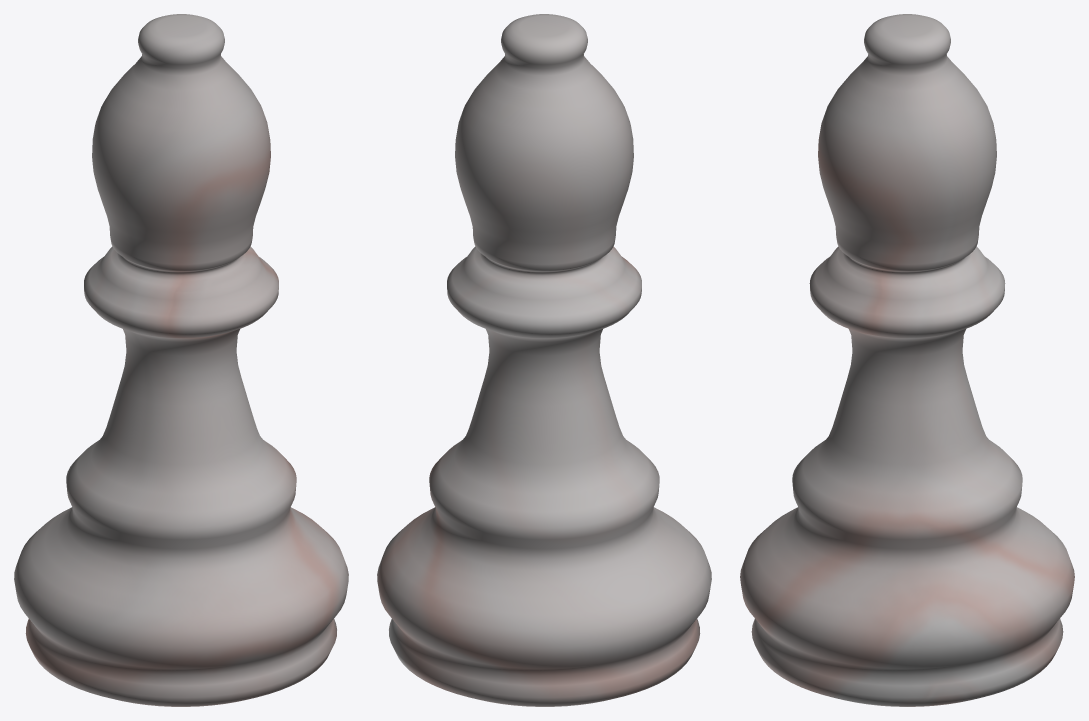
Rendered from whiteBishop.fbx.
The picture shows the model from 3 angles, left to right: view 1: azimuth 30°, elevation 25°; view 2: azimuth 150°, elevation 25°; view 3: azimuth 270°, elevation 25°; orthographic projection.
Visible parts, largest first — view 1: whiteBishop; view 2: whiteBishop; view 3: whiteBishop.
Part boxes in pixels (x1,y1,x2,y2): whiteBishop: (14,14,348,706); whiteBishop: (377,14,711,706); whiteBishop: (740,14,1074,706).
Size of the model in its own units: 72.54 by 150 by 72.54.
1 material, 1 textured.
